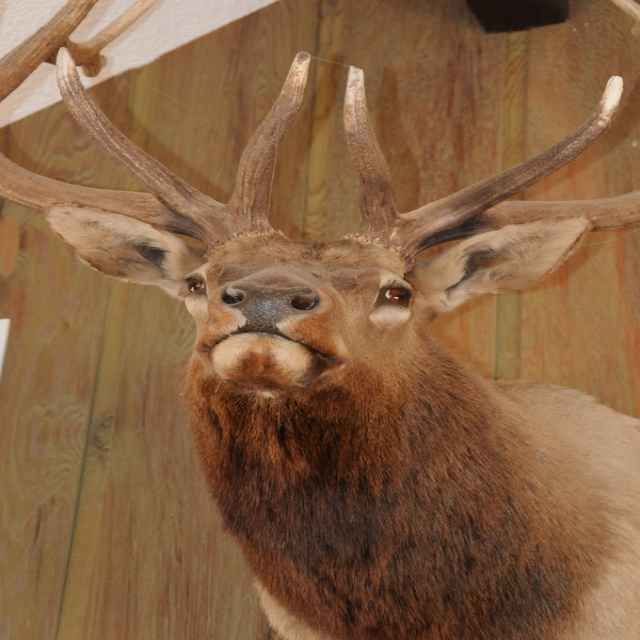Deer: (0, 47, 640, 639)
